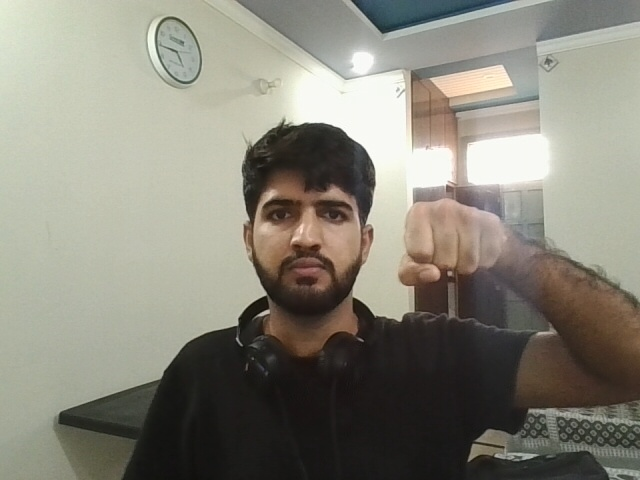Yes: (389, 177, 529, 301)
